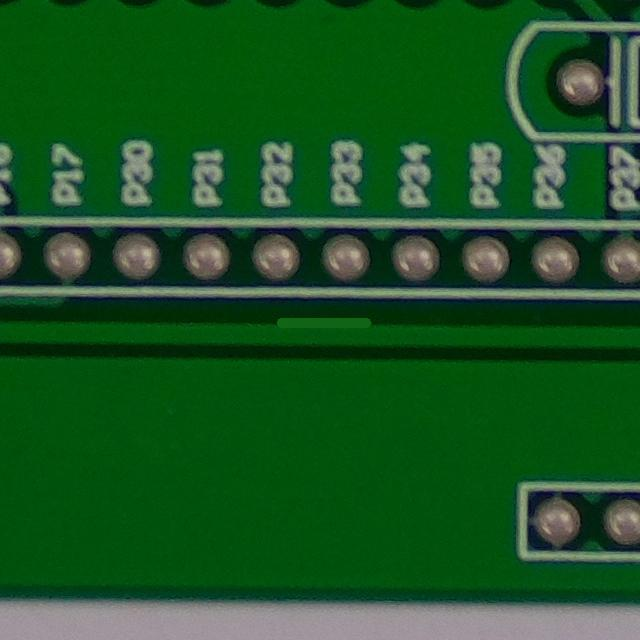spur: (250, 292, 390, 348)
